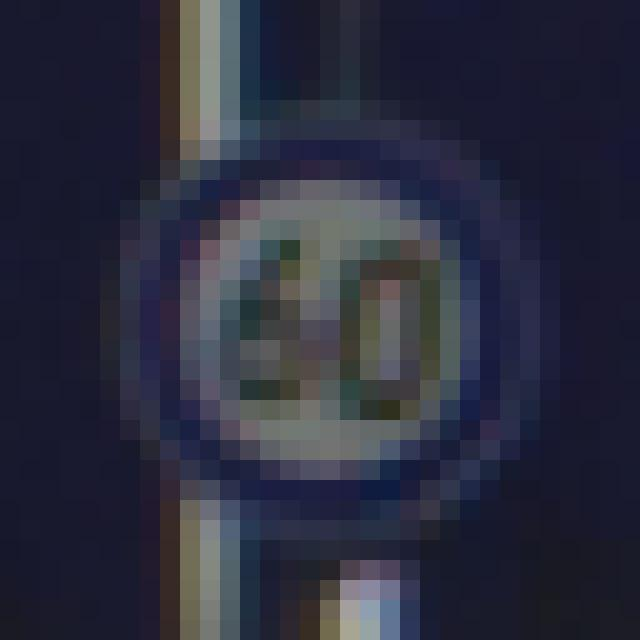SPEED-LIMIT-60: (118, 86, 546, 581)
